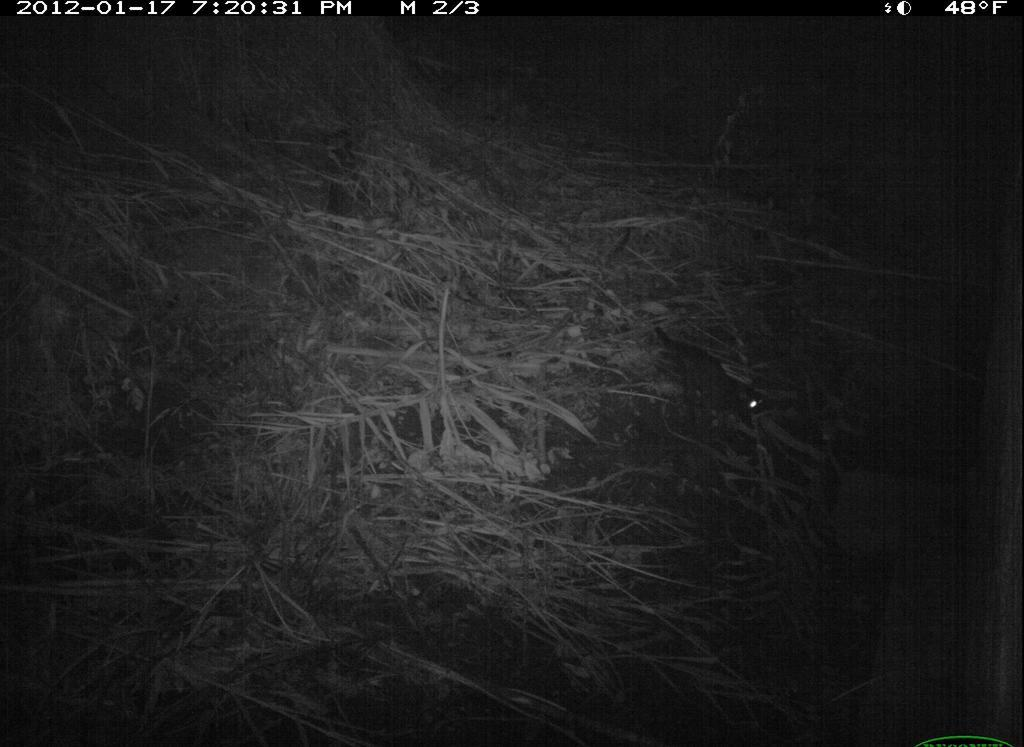cat: (638, 313, 777, 429)
